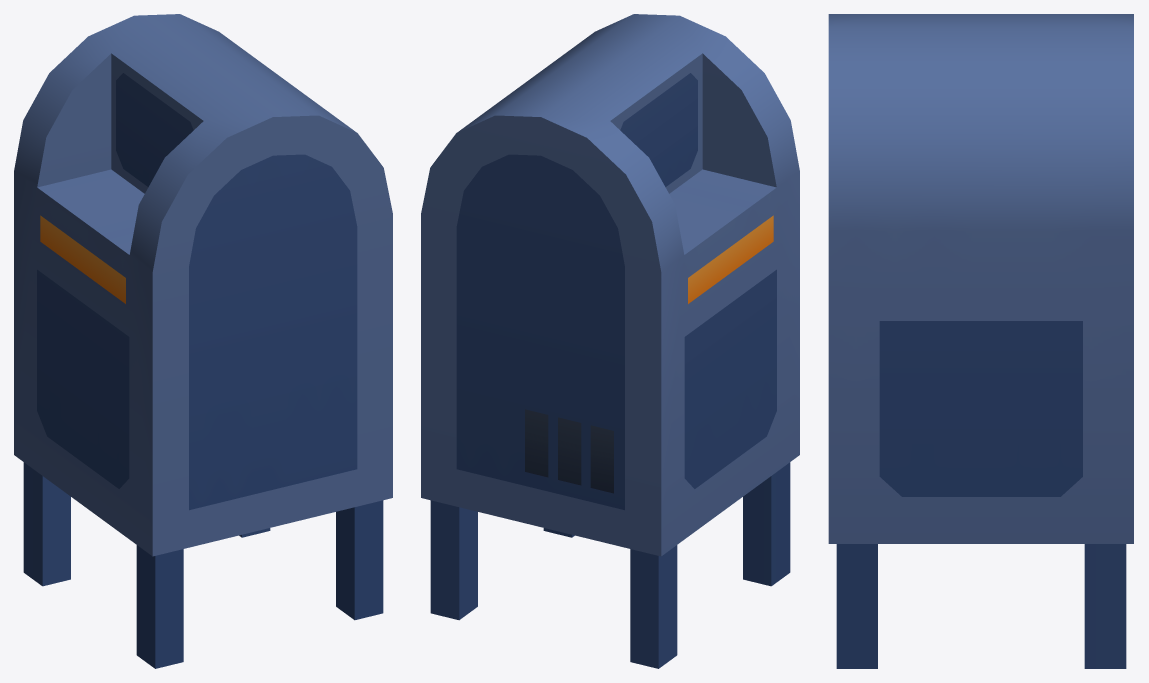
Rendered from Mailbox.fbx.
The picture shows the model from 3 angles, left to right: view 1: azimuth 30°, elevation 25°; view 2: azimuth 150°, elevation 25°; view 3: azimuth 270°, elevation 25°; orthographic projection. The views are drawn at different scales.
Parts seen in each view (by area): view 1: Mailbox_2A; view 2: Mailbox_2A; view 3: Mailbox_2A.
Boxes of the visible parts, <box> form: Mailbox_2A: <box>14,14,392,668</box>; Mailbox_2A: <box>421,14,799,668</box>; Mailbox_2A: <box>828,14,1133,668</box>.
Bounding box in the file's own units: 2328 × 4869 × 2333.
